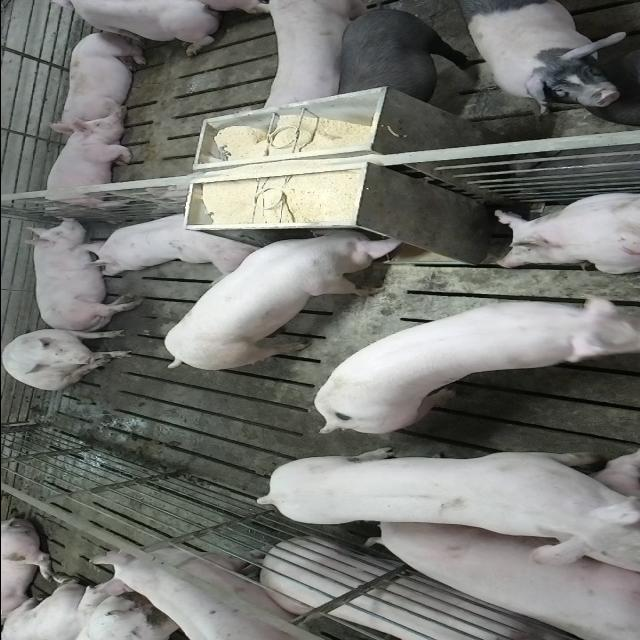Feeding: (162, 230, 406, 376)
Lateral_lying: (368, 523, 640, 640)
Sitting: (2, 326, 134, 390)
Standing: (252, 445, 640, 570), (310, 290, 640, 436), (92, 549, 337, 640), (460, 2, 624, 116), (336, 5, 480, 112), (258, 3, 372, 118)
Sternal_lying: (491, 191, 640, 275), (21, 220, 131, 328), (74, 210, 258, 272), (51, 29, 150, 130), (35, 3, 224, 55), (36, 118, 134, 215)
